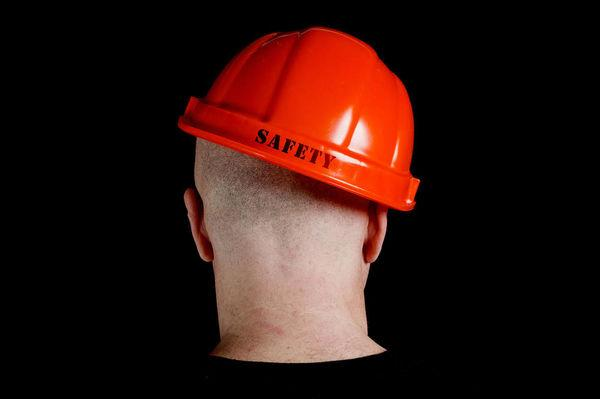helmet: (176, 23, 422, 214)
